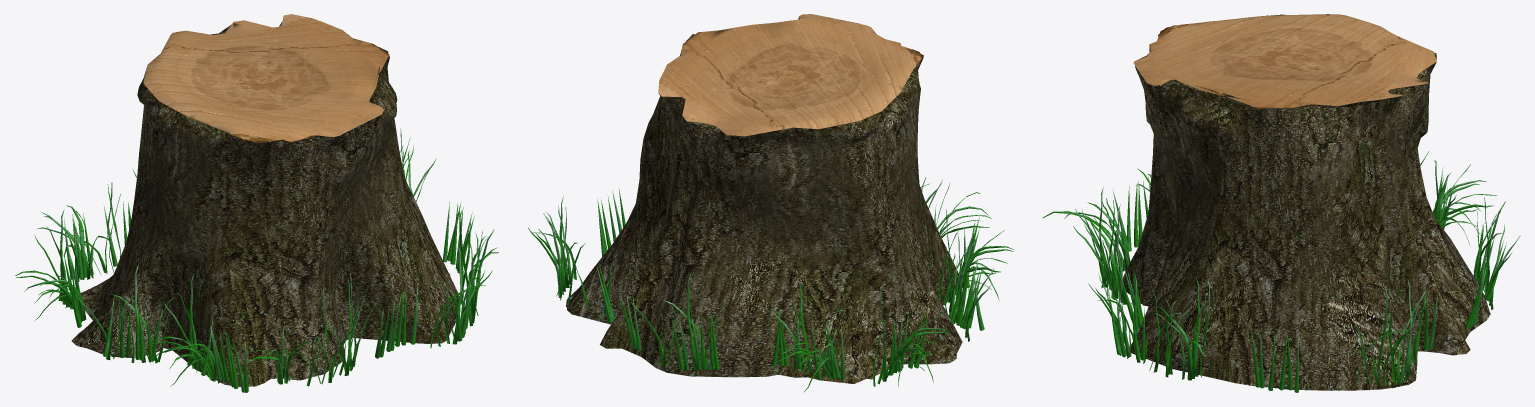
File: Stump.FBX
3 renders of one model, left to right at view 1: azimuth 30°, elevation 25°; view 2: azimuth 150°, elevation 25°; view 3: azimuth 270°, elevation 25°, orthographic. The views are drawn at different scales.
Visible parts, largest first — view 1: Stump; view 2: Stump; view 3: Stump.
Part boxes in pixels (bbox=[...]): Stump: bbox=[15, 14, 498, 392]; Stump: bbox=[528, 14, 1013, 392]; Stump: bbox=[1042, 14, 1520, 392].
Bounding box in the file's own units: 30.75 × 17.35 × 30.14.
3 materials, 3 textured.
